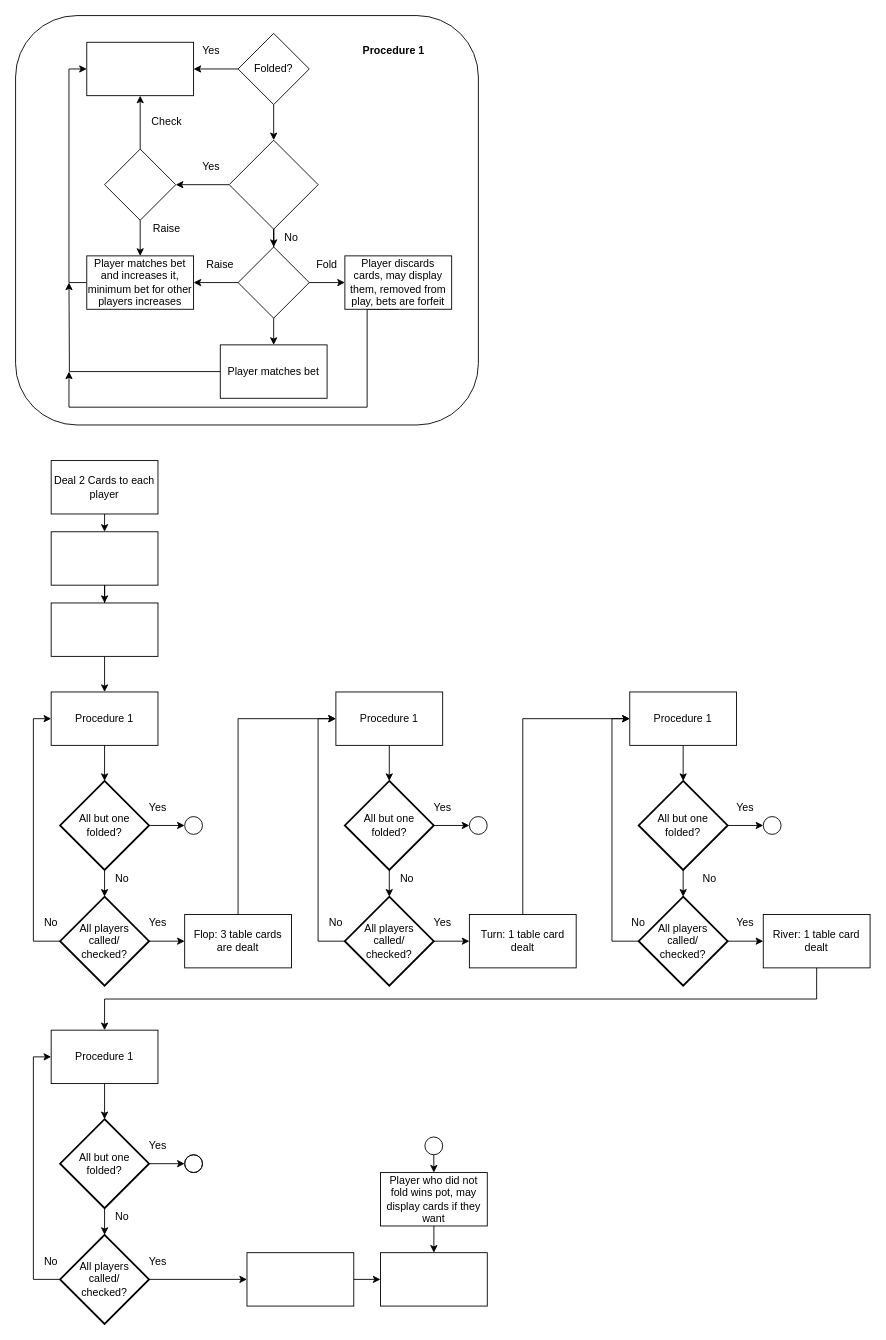
This 886x1340 diagram has some shape labels left out. Here are the shapes that lost their labels. From the top down, the box of each, then its label:
(86, 41, 194, 96): Proceed to next player
(104, 148, 176, 220): Check/Raise
(228, 139, 318, 229): Does current bet match highest bid?
(237, 246, 309, 318): Call/Fold/Raise
(50, 531, 158, 585): Small blind and big blind place mandatory bets
(50, 602, 158, 656): Player positioned after big blind takes turn, pre-flop betting begins
(246, 1252, 354, 1306): Players reveal their cards and rewards are dealt to winners
(380, 1252, 487, 1306): Buttons are moved up by one position, next round begins
